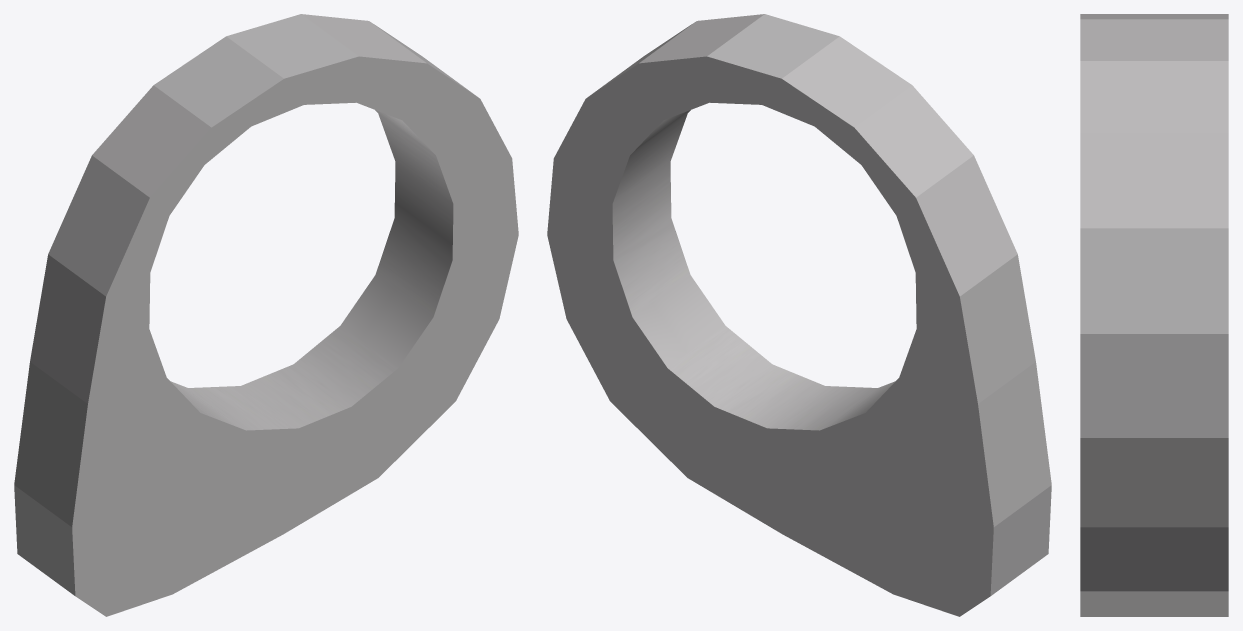
Rendered from ringDown.fbx.
3 views of the same model, side by side, from view 1: azimuth 30°, elevation 25°; view 2: azimuth 150°, elevation 25°; view 3: azimuth 270°, elevation 25° (orthographic). The views are drawn at different scales.
Visible parts, largest first — view 1: CamRing1; view 2: CamRing1; view 3: CamRing1.
Part boxes in pixels (x1=…): CamRing1: x1=14, y1=14, x2=518, y2=616; CamRing1: x1=547, y1=14, x2=1051, y2=616; CamRing1: x1=1080, y1=14, x2=1228, y2=616.
Bounding box in the file's own units: 5.74 × 6.12 × 1.29.
Materials: 1 (1 with a texture image).
